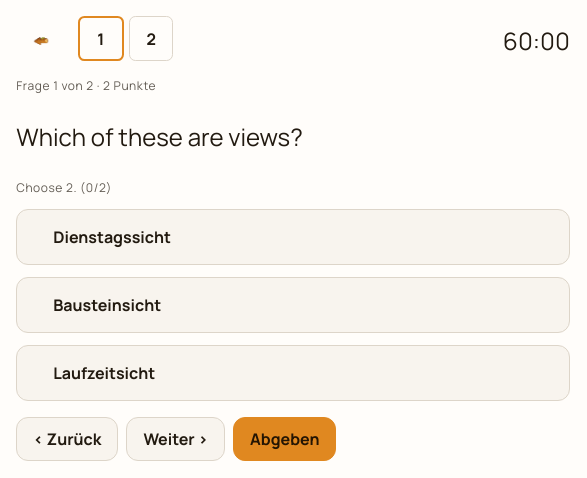
Test case: the exam runner › marks answered questions in the navigator
The image size is (587, 478).
Expected: the button named "Frage 1, offen" is shown, [78,16,124,61]
Step 1. Click the button "Bausteinsicht" → (107, 305), box [17,278,569,332]
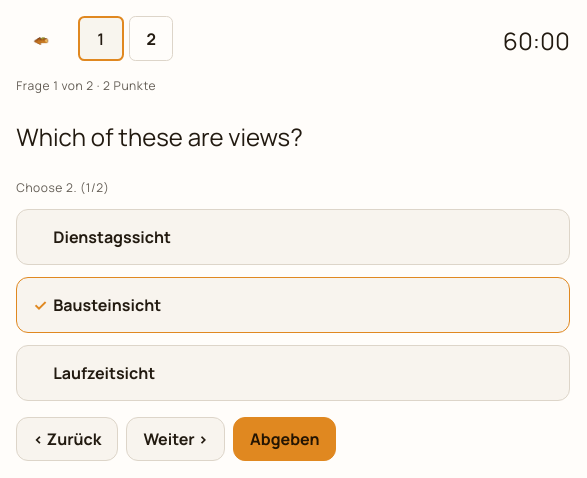
Expected: the button named "Frage 2, offen" is shown, [129,16,173,61]
Now the button named "Frage 1, beantwortet" is shown, box [78,16,124,61]
